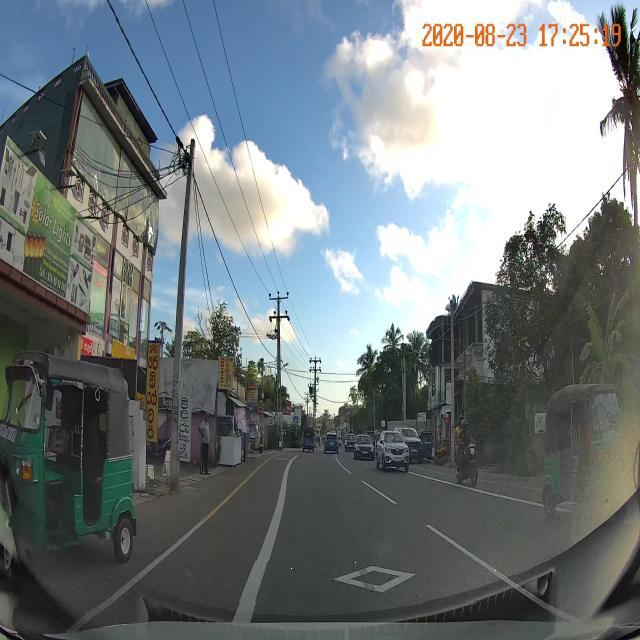diamond: (237, 562, 514, 602)
